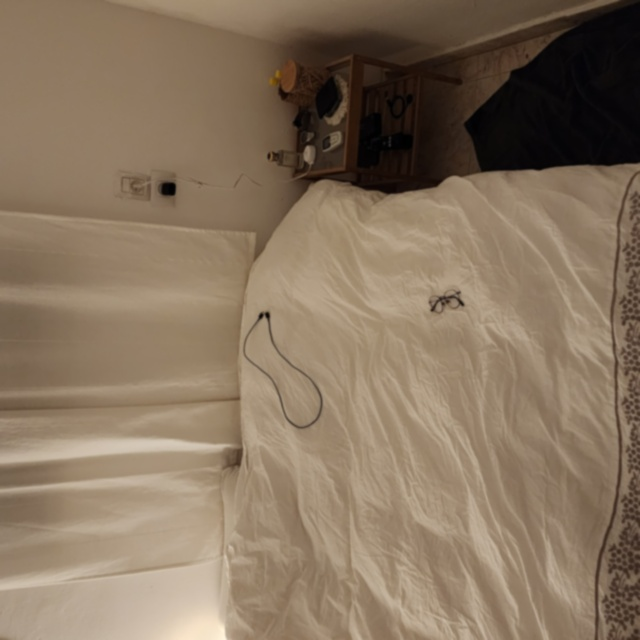glasses: (425, 287, 471, 317)
